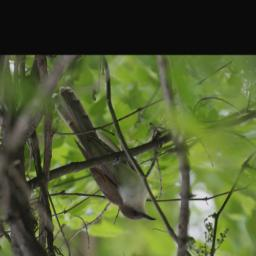Cuckoo: (51, 85, 158, 224)
